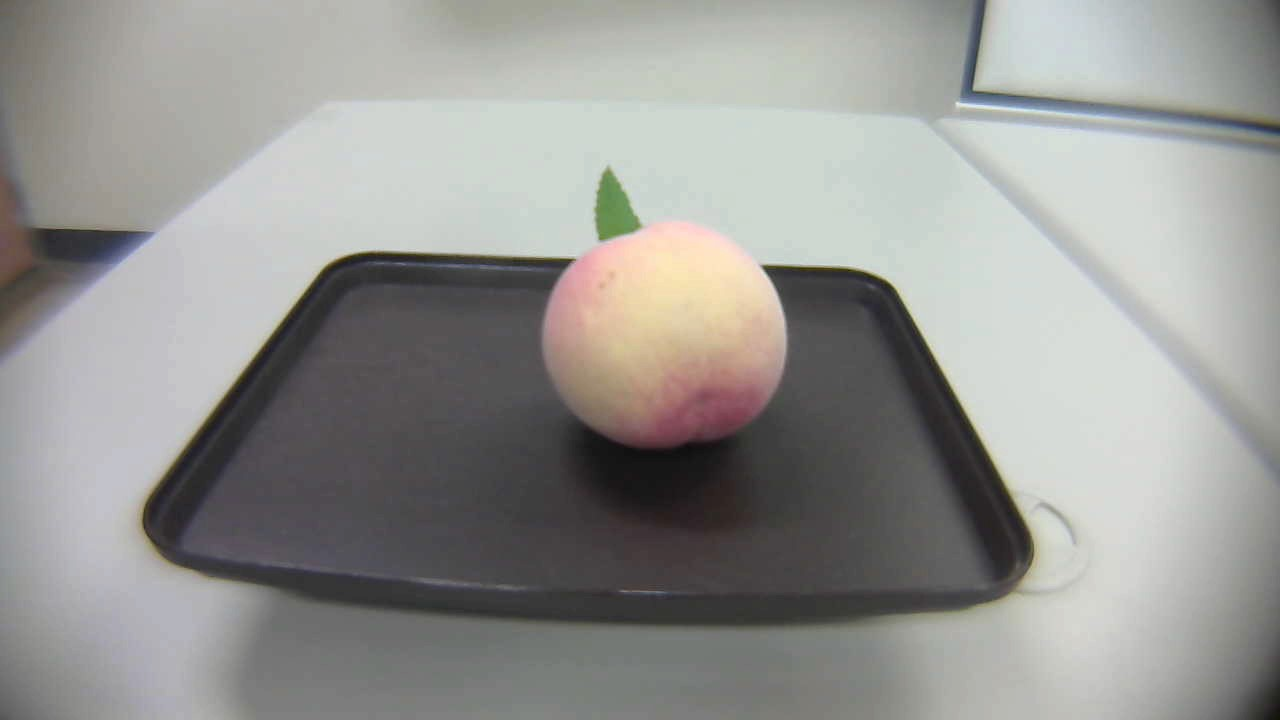peach: (531, 166, 802, 453)
